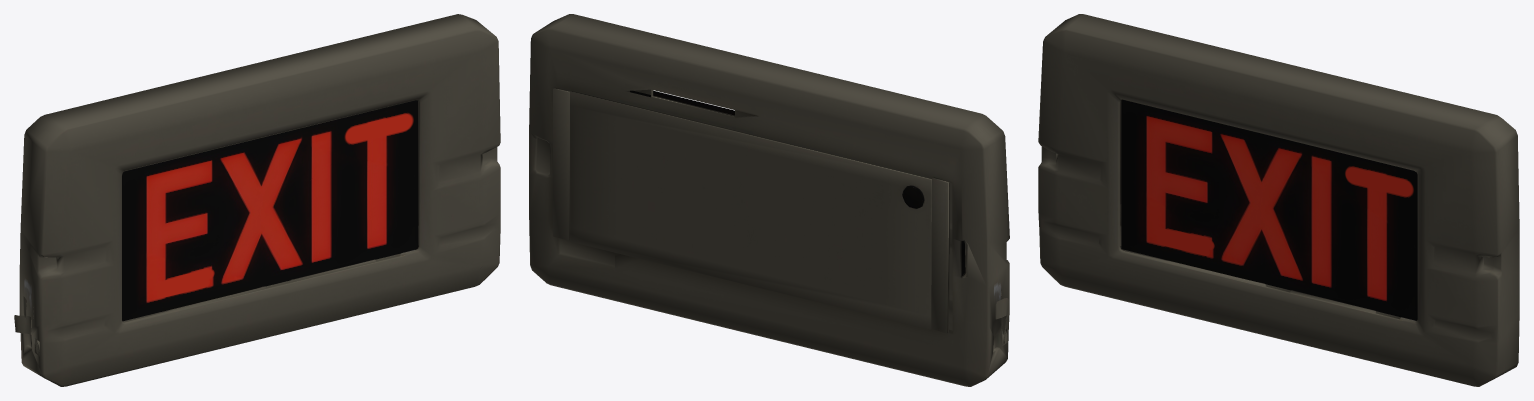
Rendered from ENV_EXIT_v001.fbx.
3 views of the same model, side by side, from view 1: azimuth 30°, elevation 25°; view 2: azimuth 150°, elevation 25°; view 3: azimuth 330°, elevation 25° (orthographic).
Parts seen in each view (by area): view 1: tripo_node_cc23a53e-d375-4ea8-9cc8-243e9d2994a2; view 2: tripo_node_cc23a53e-d375-4ea8-9cc8-243e9d2994a2; view 3: tripo_node_cc23a53e-d375-4ea8-9cc8-243e9d2994a2.
Boxes of the visible parts, bbox=[...] form: tripo_node_cc23a53e-d375-4ea8-9cc8-243e9d2994a2: bbox=[14, 14, 500, 386]; tripo_node_cc23a53e-d375-4ea8-9cc8-243e9d2994a2: bbox=[529, 14, 1009, 386]; tripo_node_cc23a53e-d375-4ea8-9cc8-243e9d2994a2: bbox=[1038, 14, 1519, 386].
Bounding box in the file's own units: 196 × 103 × 20.35.
1 material, 1 textured.
